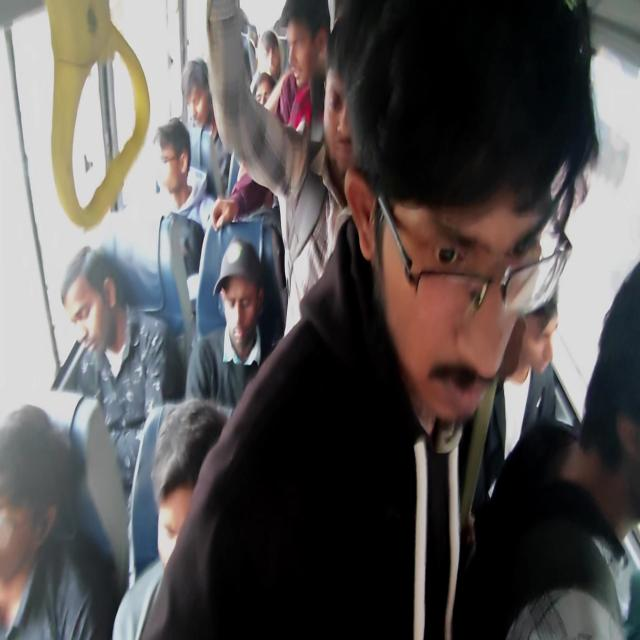person: (341, 13, 524, 385), (565, 274, 640, 550), (494, 194, 606, 376), (46, 251, 156, 374), (0, 388, 56, 572), (148, 404, 216, 530), (219, 152, 322, 235), (322, 34, 393, 154), (267, 0, 335, 89), (143, 105, 190, 186), (212, 225, 254, 293), (192, 65, 226, 132), (251, 70, 273, 122), (215, 1, 239, 40), (260, 29, 277, 68)
